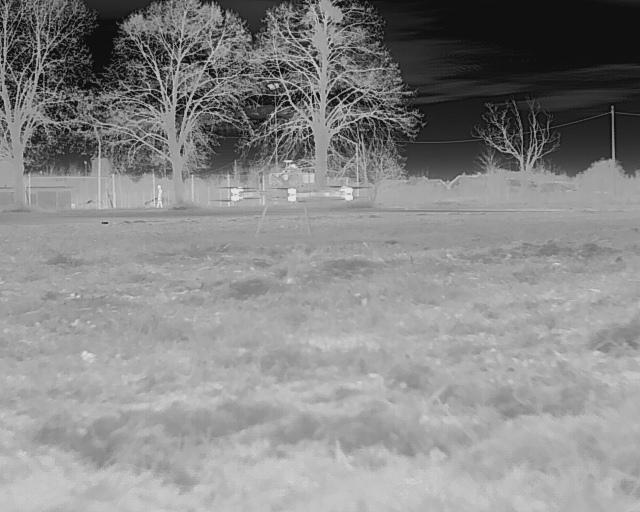drone: (205, 165, 377, 250)
